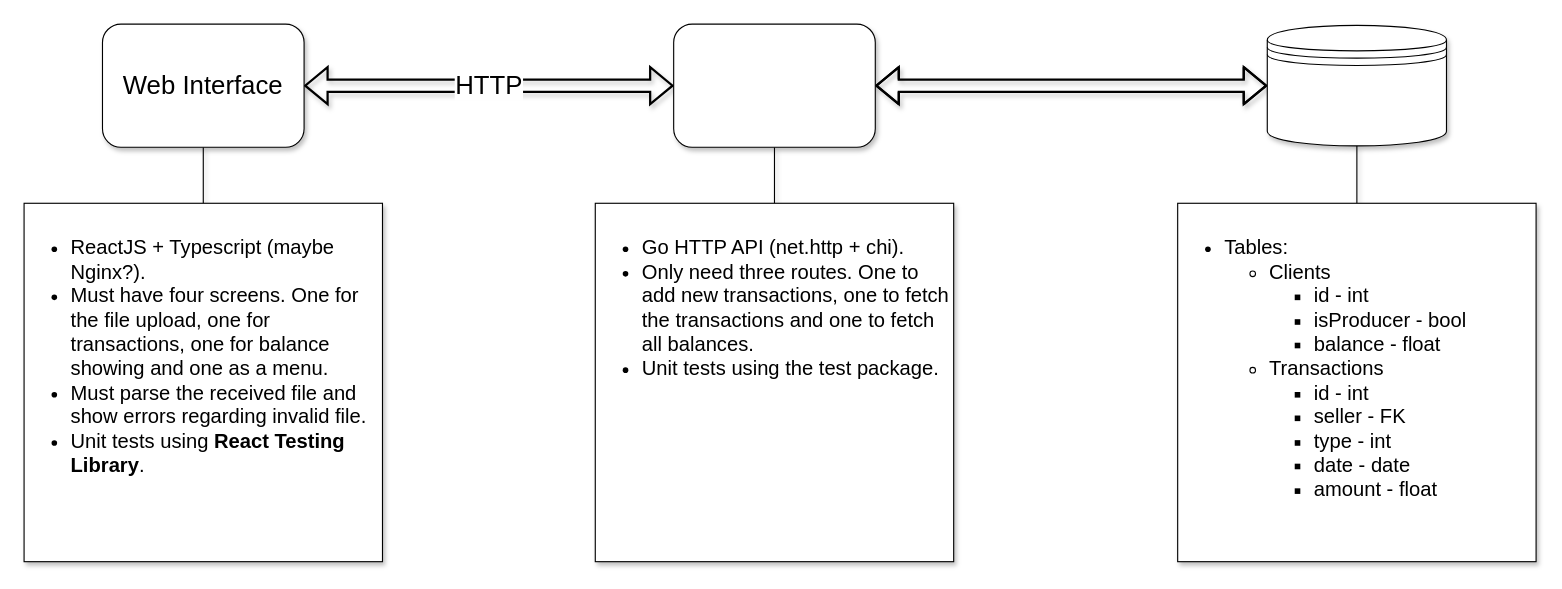
The diagram is 1562 pixels wide and 589 high, and some of its shapes have lost their labels. Each missing label, with the centre of its shape:
"PostgreSQL" belongs at [1357,87].
"Products API" belongs at [775,86].
